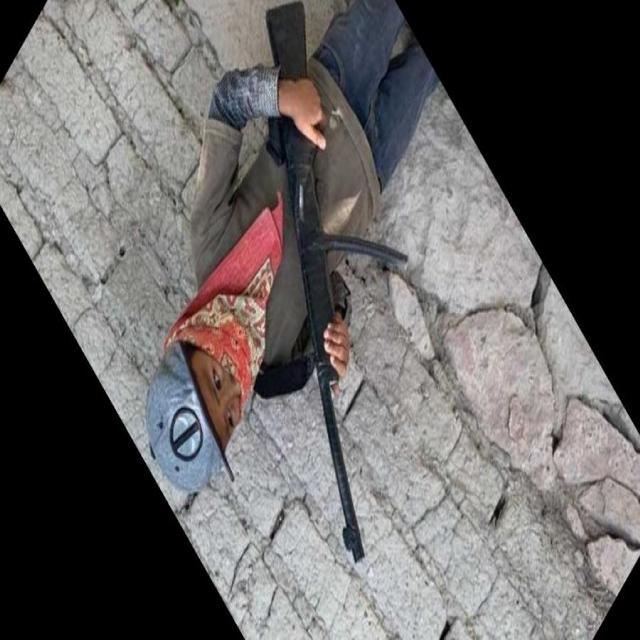weapon: (264, 1, 410, 564)
